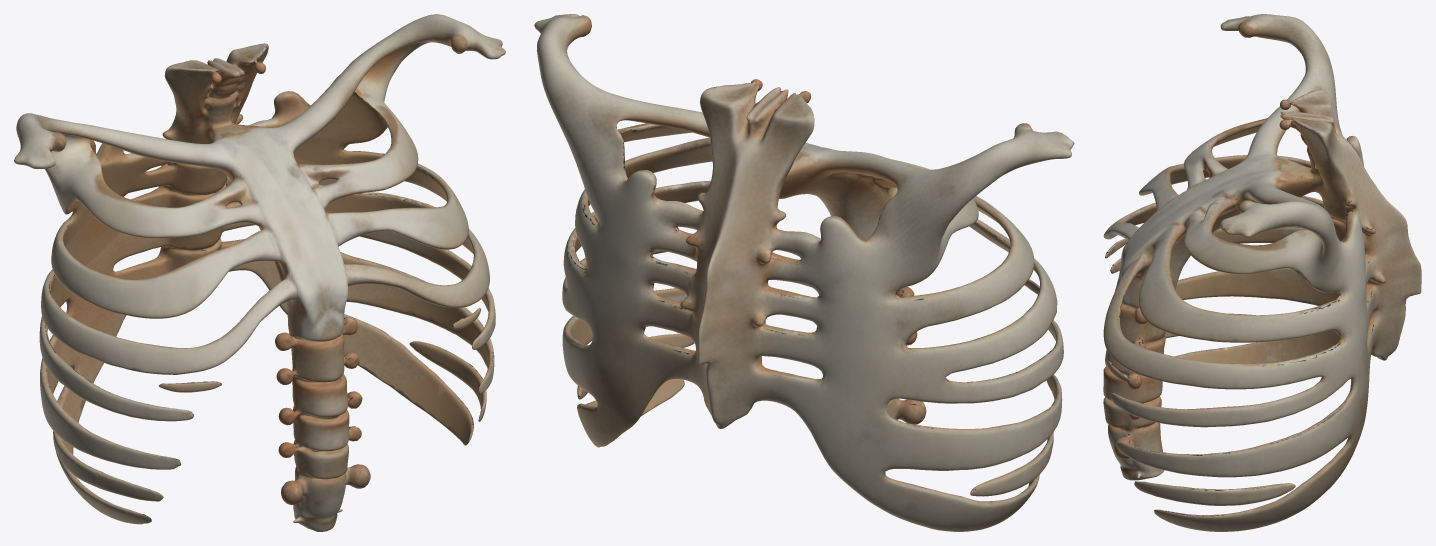
The model's file is dog-ribcage.glb.
3 renders of one model, left to right at view 1: azimuth 30°, elevation 25°; view 2: azimuth 150°, elevation 25°; view 3: azimuth 270°, elevation 25°, orthographic. The views are drawn at different scales.
Visible parts, largest first — view 1: model; view 2: model; view 3: model.
Boxes of the visible parts, left/top/right/bottom form: model: left=14, top=14, right=505, bottom=531; model: left=534, top=14, right=1074, bottom=531; model: left=1103, top=14, right=1421, bottom=531.
Size of the model in its own units: 1.89 by 1.48 by 1.17.
1 material, 1 textured.
